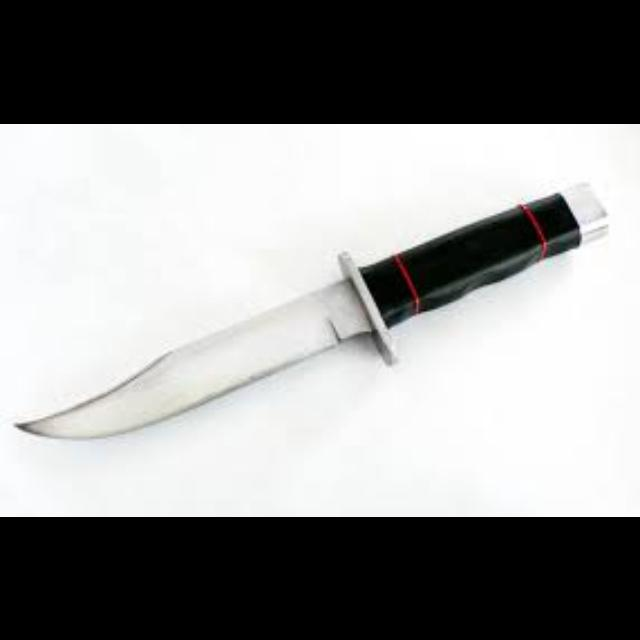Knife: (11, 174, 608, 438)
